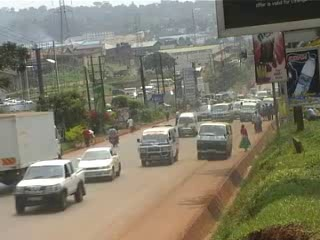Car: (72, 144, 123, 182), (196, 102, 214, 120)
Motorcycle: (108, 128, 121, 148)
